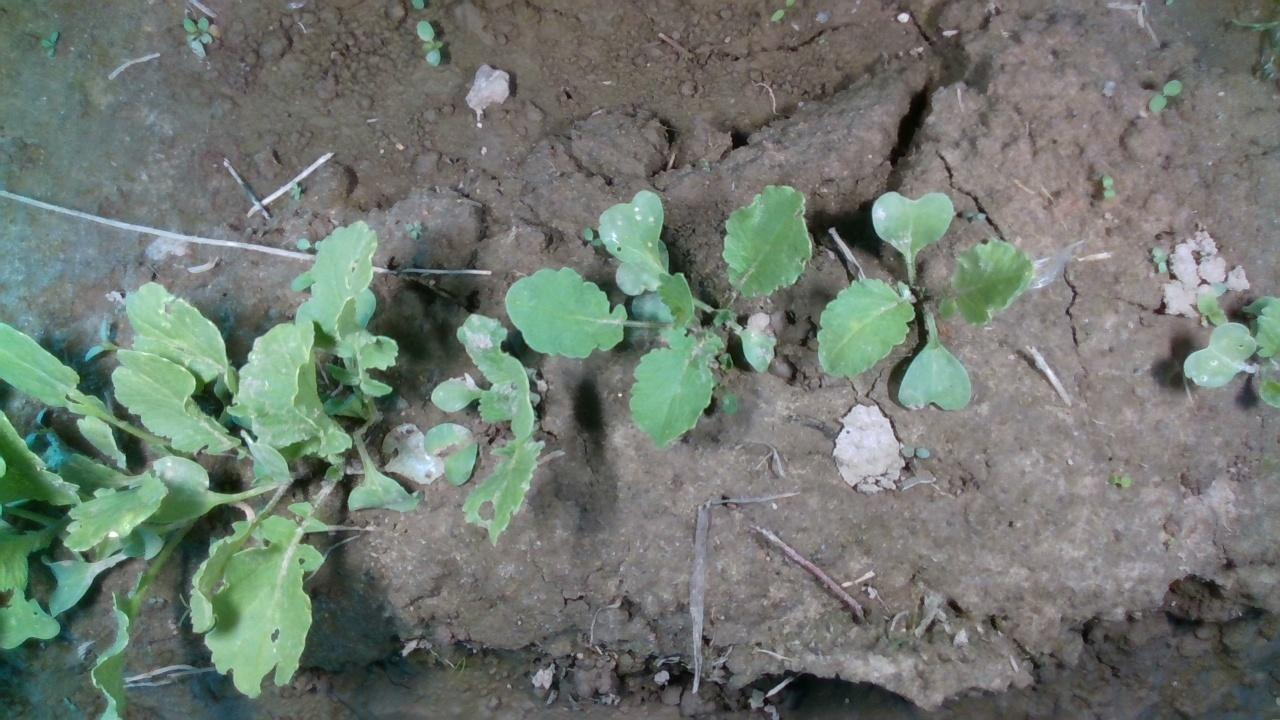weed: (175, 12, 227, 45), (1147, 76, 1183, 118), (410, 16, 438, 68), (32, 24, 65, 53), (1098, 169, 1123, 202), (1108, 471, 1135, 489)
